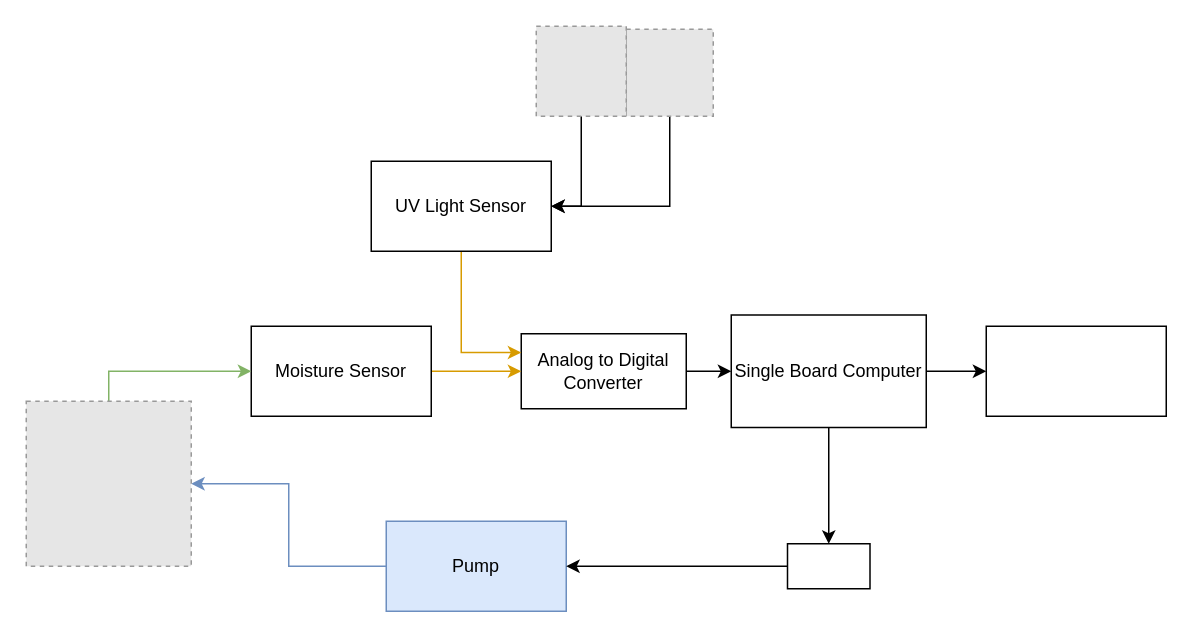
Image size: 1193x638. Some labels were removed from this diagram. Grey dashed boxes stand in for pictures. Each missing label, with the centre of its shape:
"Display (Serial Monitor)" belongs at [1075,370].
"Relay" belongs at [828,565].
